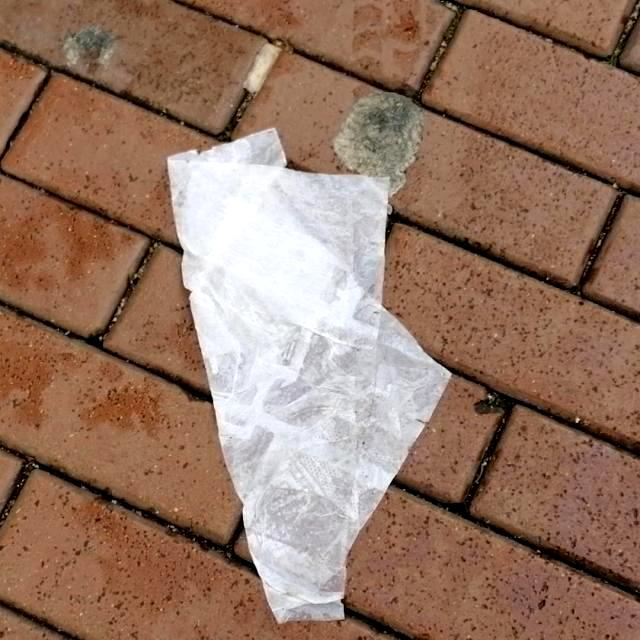Paper: (166, 124, 457, 624)
